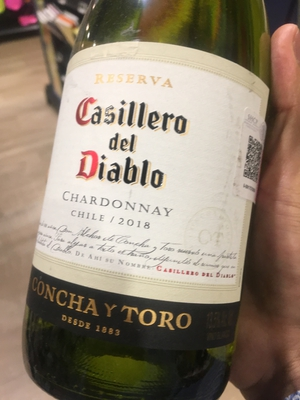casillero del diablo chardonnay: (23, 25, 267, 400)
